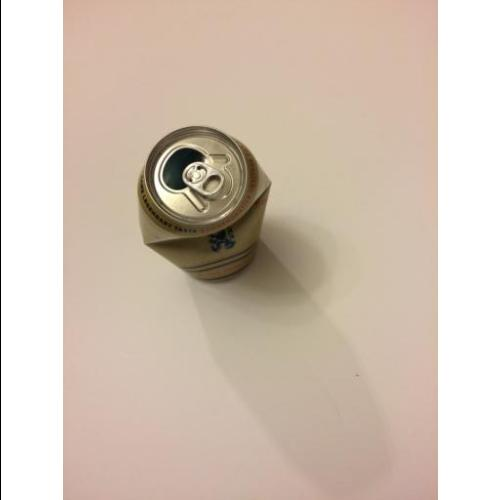metal: (137, 127, 272, 283)
